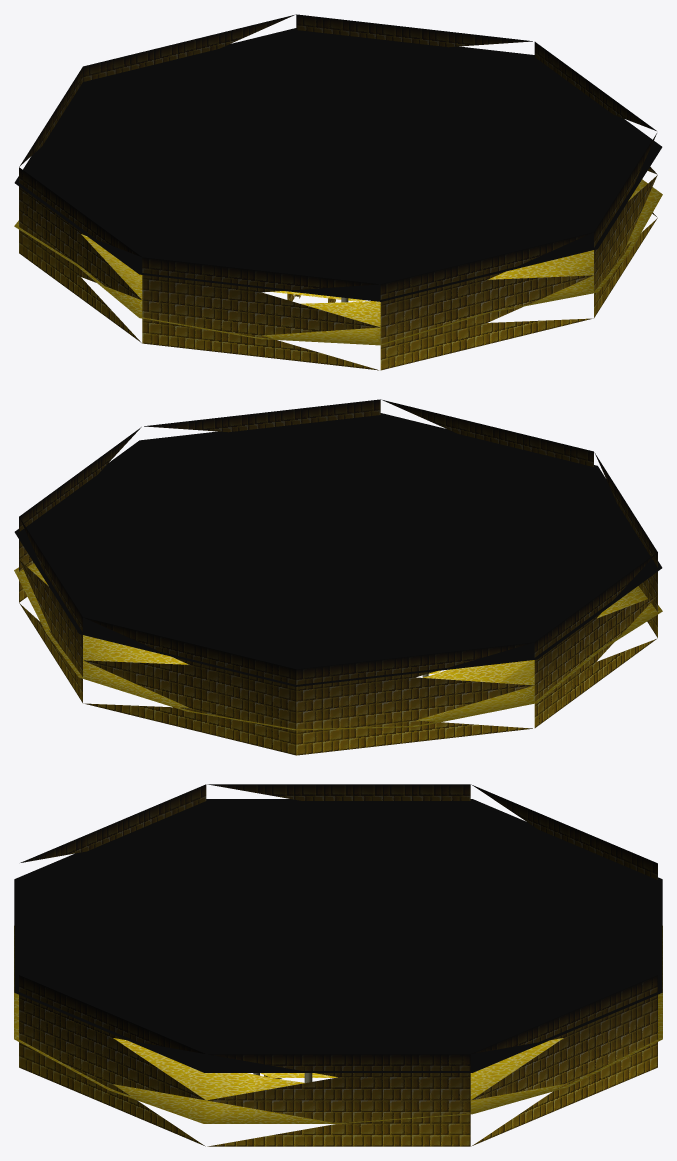
File: MR_stage2-MR_stage2.glb
The picture shows the model from 3 angles, top to bottom: view 1: azimuth 30°, elevation 25°; view 2: azimuth 150°, elevation 25°; view 3: azimuth 270°, elevation 25°; orthographic projection. The views are drawn at different scales.
Visible parts, largest first — view 1: MR_stage2; view 2: MR_stage2; view 3: MR_stage2.
Part boxes in pixels (x1,y1,x2,y2): MR_stage2: (14,14,662,370); MR_stage2: (14,399,662,755); MR_stage2: (14,784,662,1146).
Size of the model in its own units: 584 by 121 by 584.
9 materials, 9 textured.
